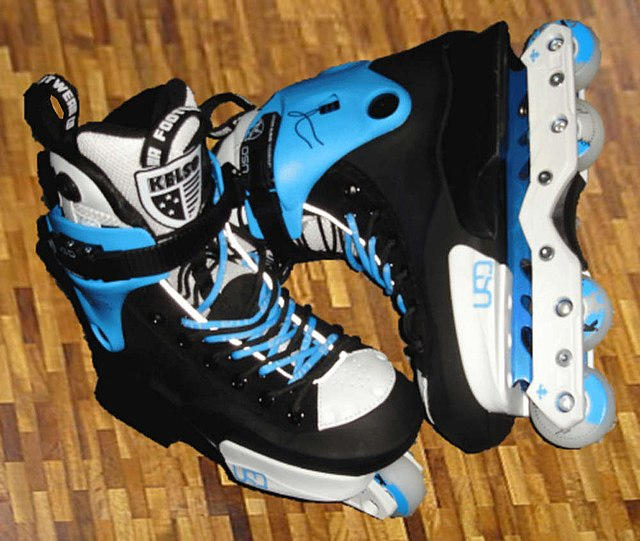roller_blade: (272, 94, 606, 422), (25, 92, 257, 454)
